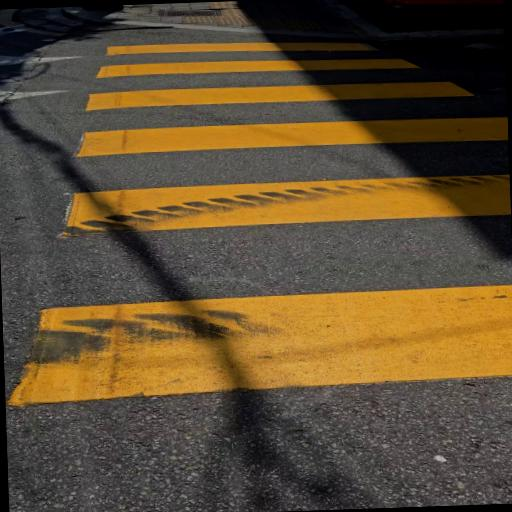yellow-crosswalk: (0, 18, 512, 416)
